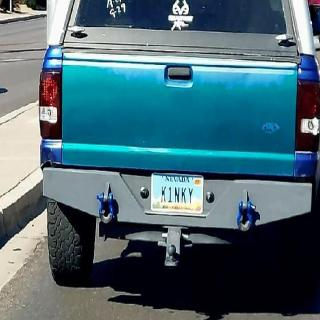license: (151, 173, 205, 216)
